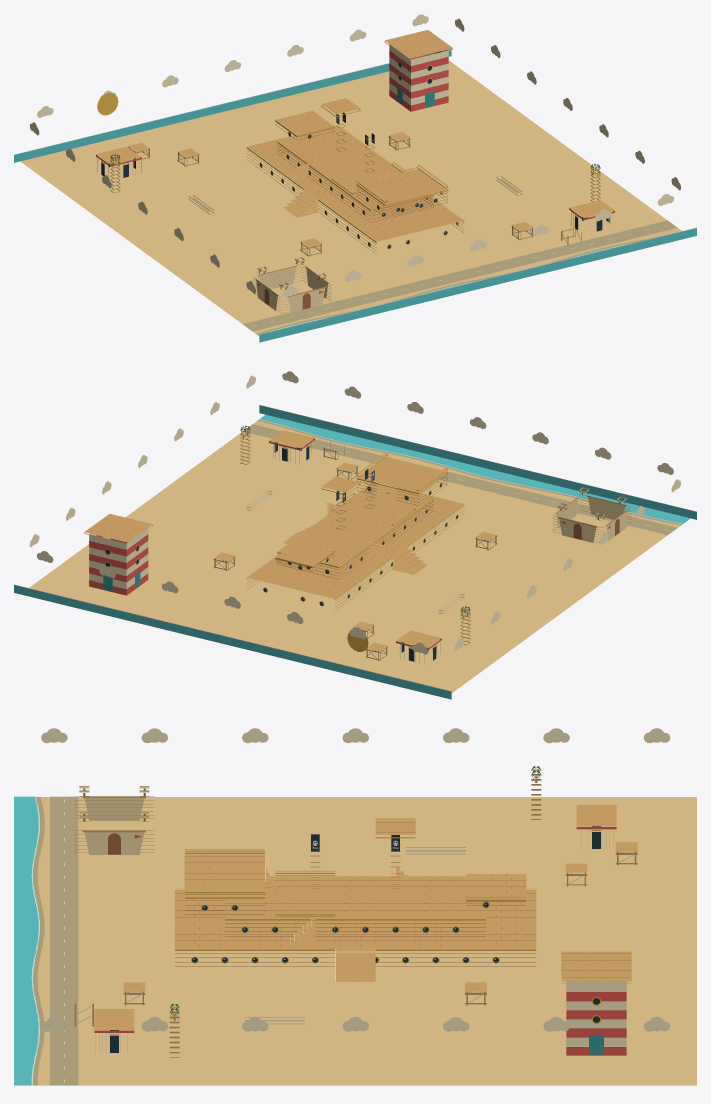
Rendered from fps_arena_cove.glb.
3 views of the same model, one above another, from view 1: azimuth 30°, elevation 25°; view 2: azimuth 150°, elevation 25°; view 3: azimuth 270°, elevation 25° (orthographic). The views are drawn at different scales.
Visible parts, largest first — view 1: Sandy playmat, detail_Cove deck honey plastic, detail_Cove turquoise tide ink, detail_Cove ivory paint, detail_Cove damp tide line, detail_Cove moulded cedar, detail_Cove brass plastic, detail_Cove lighthouse coral, detail_Cove sand speckles, detail_Cove seafoam ink, detail_Cove navy ink; view 2: Sandy playmat, detail_Cove deck honey plastic, detail_Cove turquoise tide ink, detail_Cove ivory paint, detail_Cove damp tide line, detail_Cove moulded cedar, detail_Cove sand speckles, detail_Cove lighthouse coral, detail_Cove brass plastic, detail_Cove seafoam ink, detail_Cove navy ink; view 3: Sandy playmat, detail_Cove deck honey plastic, detail_Cove damp tide line, detail_Cove ivory paint, detail_Cove turquoise tide ink, detail_Cove moulded cedar, detail_Cove brass plastic, detail_Cove sand speckles, detail_Cove lighthouse coral, detail_Cove navy ink, detail_Cove seafoam ink.
Part boxes in pixels (<box>): Sandy playmat: <box>20,60,681,333</box>; detail_Cove deck honey plastic: <box>96,30,614,313</box>; detail_Cove turquoise tide ink: <box>14,48,696,342</box>; detail_Cove ivory paint: <box>29,14,680,326</box>; detail_Cove damp tide line: <box>243,220,677,334</box>; detail_Cove moulded cedar: <box>247,32,463,309</box>; detail_Cove brass plastic: <box>97,61,599,249</box>; detail_Cove lighthouse coral: <box>96,50,614,293</box>; detail_Cove sand speckles: <box>106,100,553,312</box>; detail_Cove seafoam ink: <box>14,63,696,335</box>; detail_Cove navy ink: <box>101,62,609,248</box>; Sandy playmat: <box>29,421,680,692</box>; detail_Cove deck honey plastic: <box>85,428,631,660</box>; detail_Cove turquoise tide ink: <box>14,405,696,699</box>; detail_Cove ivory paint: <box>29,371,680,664</box>; detail_Cove damp tide line: <box>243,419,682,535</box>; detail_Cove moulded cedar: <box>97,459,625,611</box>; detail_Cove sand speckles: <box>89,459,627,681</box>; detail_Cove lighthouse coral: <box>89,438,610,649</box>; detail_Cove brass plastic: <box>104,433,469,651</box>; detail_Cove seafoam ink: <box>14,405,696,691</box>; detail_Cove navy ink: <box>105,442,457,661</box>; Sandy playmat: <box>14,797,696,1085</box>; detail_Cove deck honey plastic: <box>74,769,637,1057</box>; detail_Cove damp tide line: <box>33,796,78,1085</box>; detail_Cove ivory paint: <box>41,728,670,1082</box>; detail_Cove turquoise tide ink: <box>14,796,38,1085</box>; detail_Cove moulded cedar: <box>83,788,631,978</box>; detail_Cove brass plastic: <box>109,776,601,1046</box>; detail_Cove sand speckles: <box>79,786,676,1078</box>; detail_Cove lighthouse coral: <box>94,827,626,1055</box>; detail_Cove navy ink: <box>110,826,600,1052</box>; detail_Cove seafoam ink: <box>31,796,495,1085</box>.
Size of what is drawn, in the model's own units: 69.97 by 12.61 by 68.
